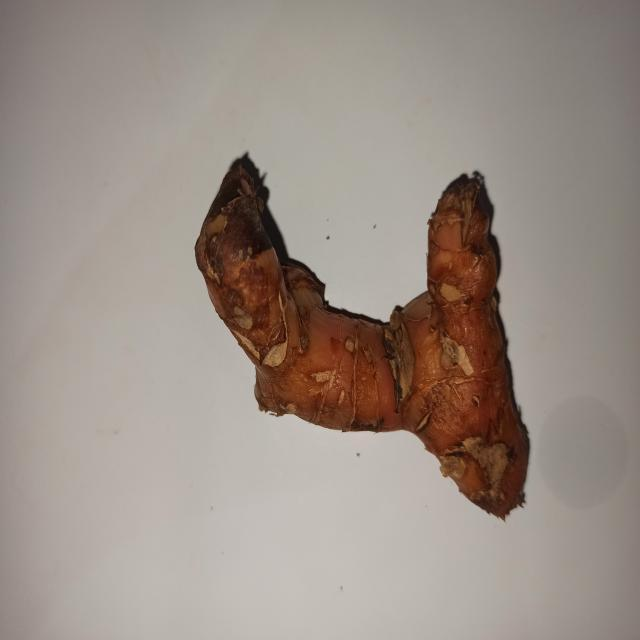ginger: (180, 133, 526, 497)
